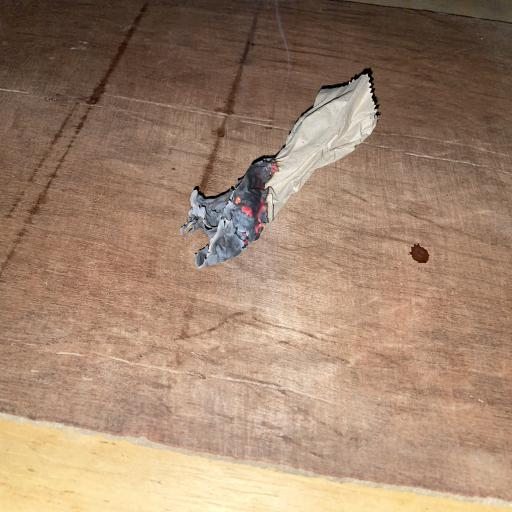fire: (195, 156, 279, 268), (199, 122, 226, 190)
